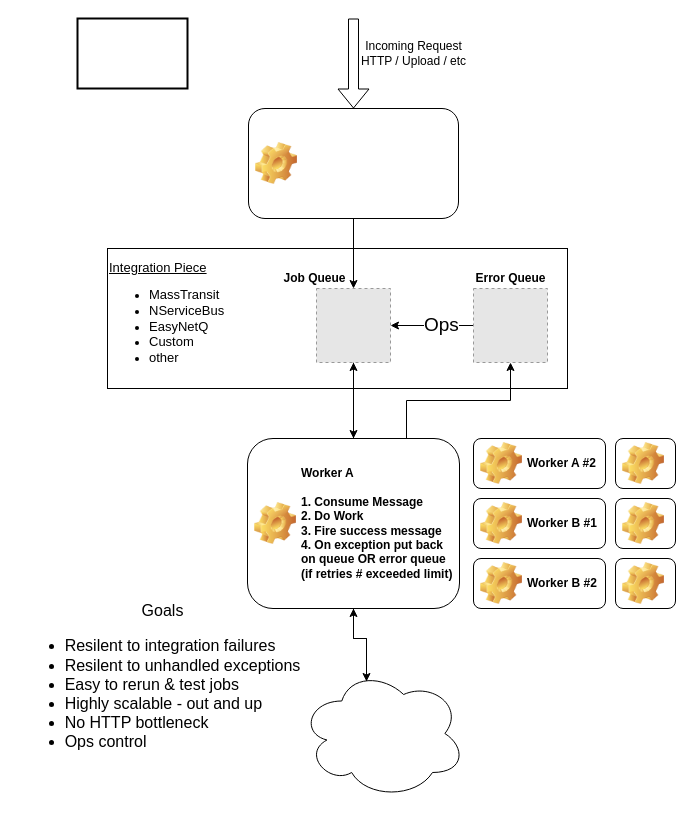
This 693x823 diagram has some shape labels left out. Grey dashed boxes stand in for pictures. Here are the shapes that lost their labels. From the top down, the centre of each, then its label:
pixel 132 53: Resilient Integration System
pixel 353 163: Client Endpoint 1. Write Raw Data 2. Fire message 3. Return Status OK w/ ID
pixel 383 733: External System
